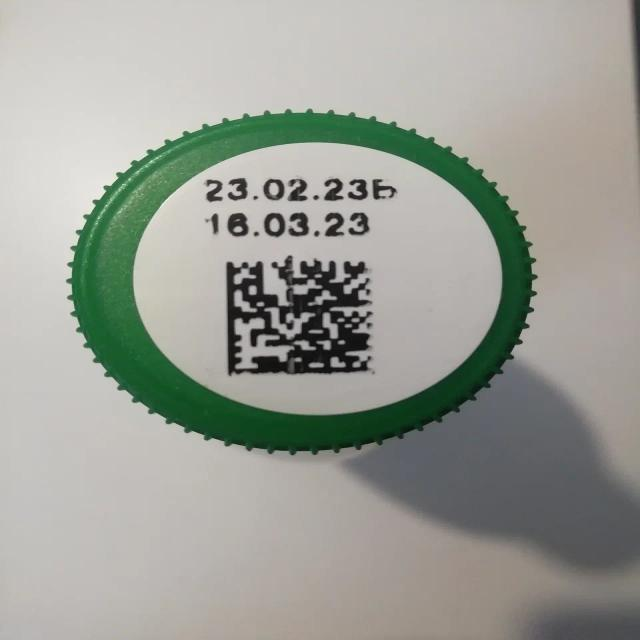datamatrix: (224, 259, 381, 379)
